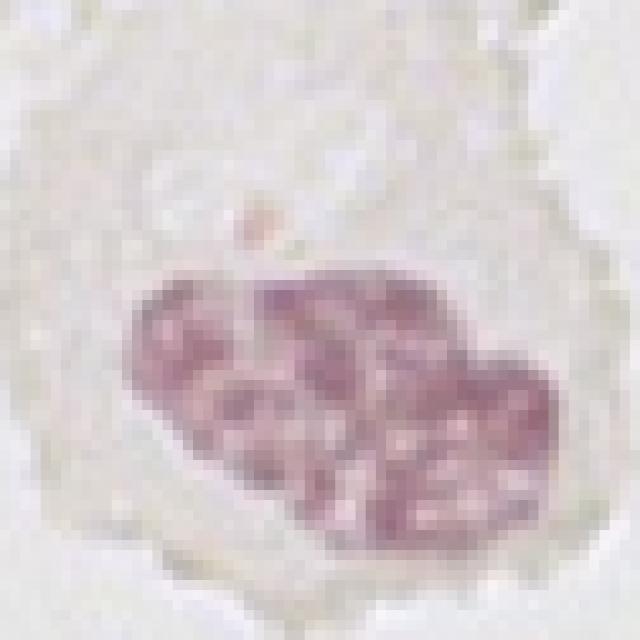cytoplasm: (0, 11, 630, 630)
nucleus: (85, 163, 613, 640)
